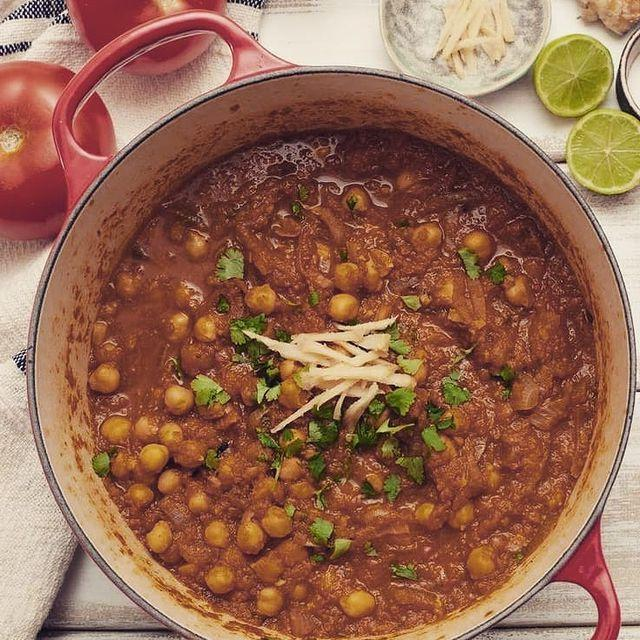Chole: (102, 384, 348, 623)
